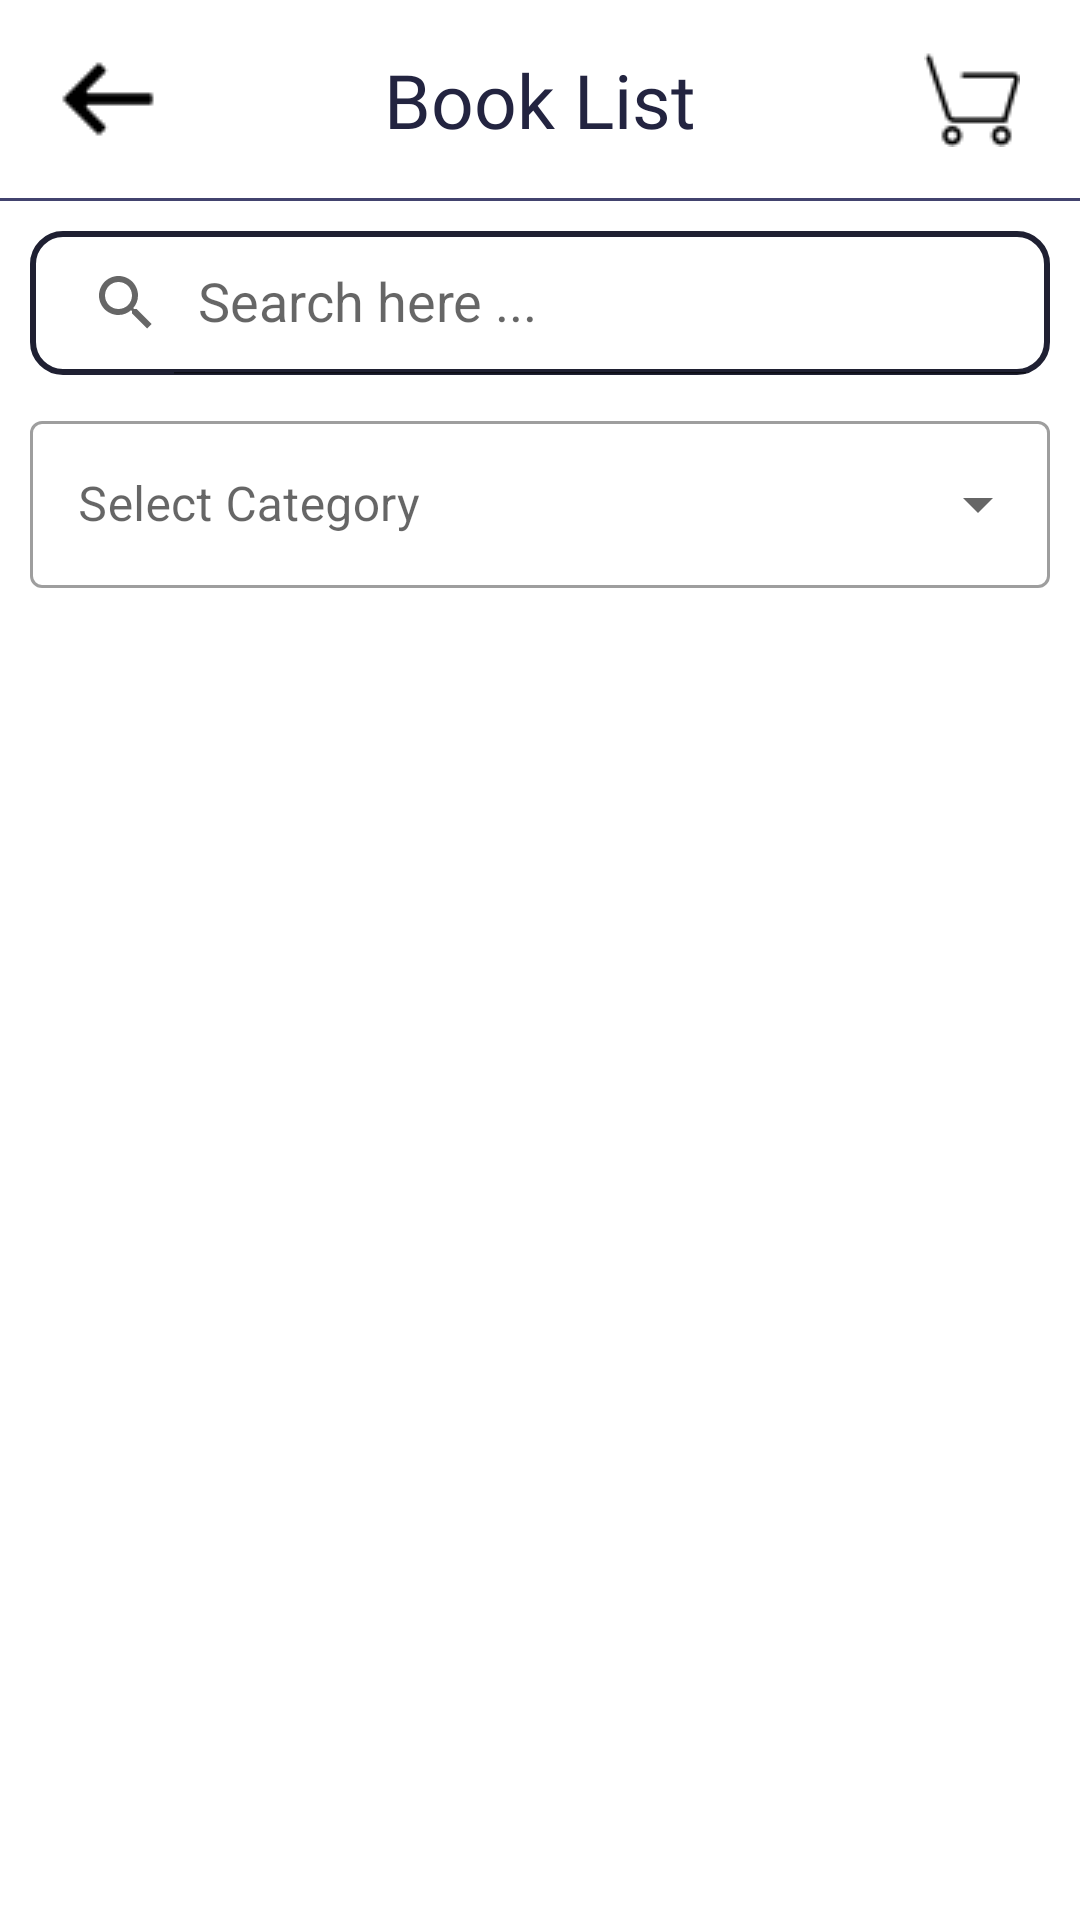

Icon click points for this 1080px×1920px phone screenshot, format point (x, y):
back: point (108, 99)
cart: point (972, 100)
